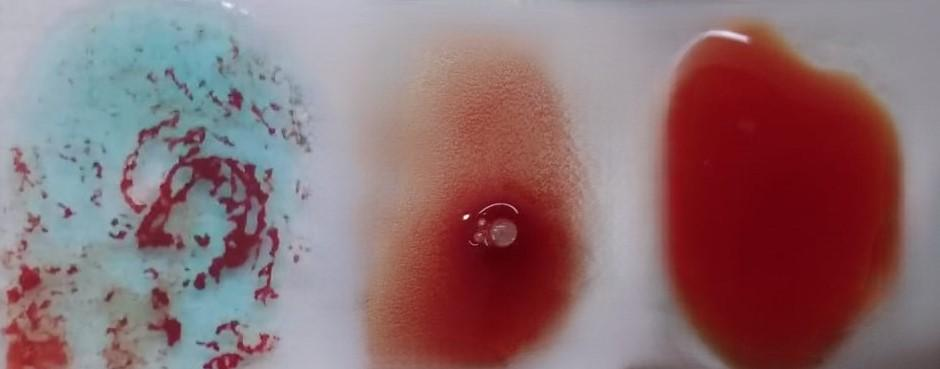A: (12, 17, 303, 369)
D: (368, 37, 581, 369)
